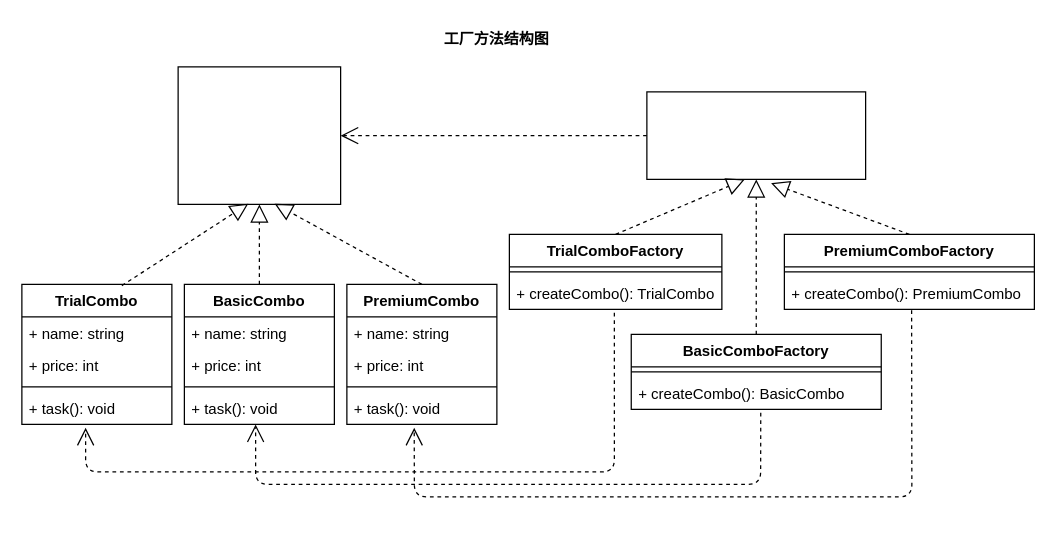
This 1056x536 diagram has some shape labels left out. Each missing label, with the centre of its shape:
"<<Interface>> ICombo + name: string + price: int + task(): void" belongs at point 259,135.
"<<Interface>> IFactory + createCombo(): ICombo" belongs at point 756,135.
